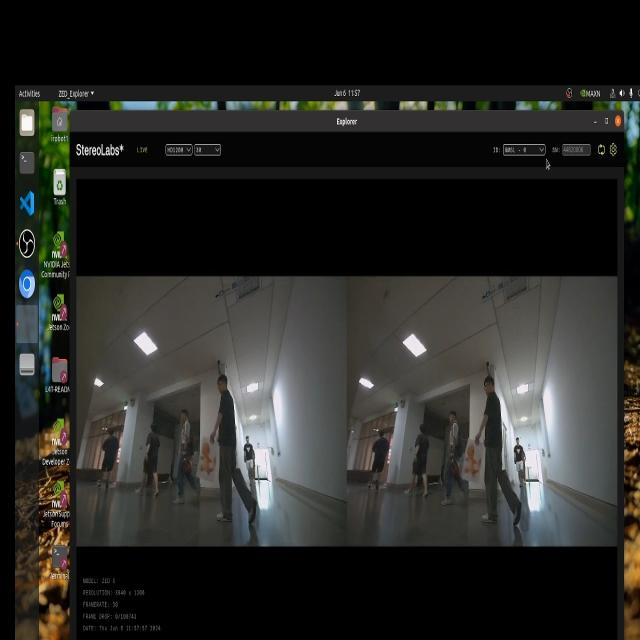red: (466, 445, 488, 499), (192, 443, 220, 482)
